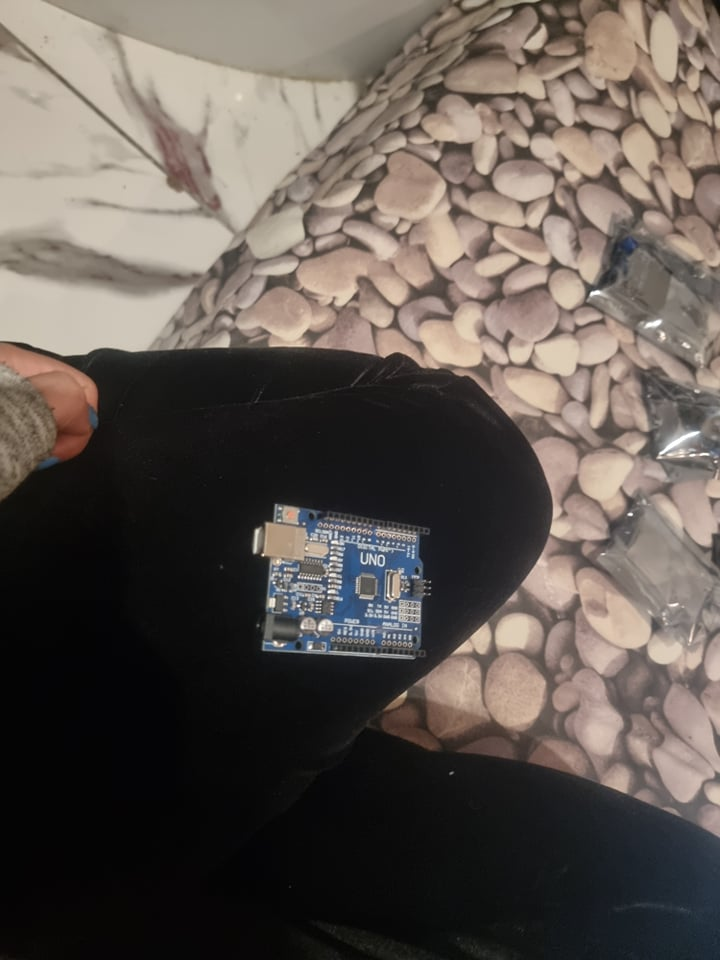UNO R3: (253, 500, 432, 663)
